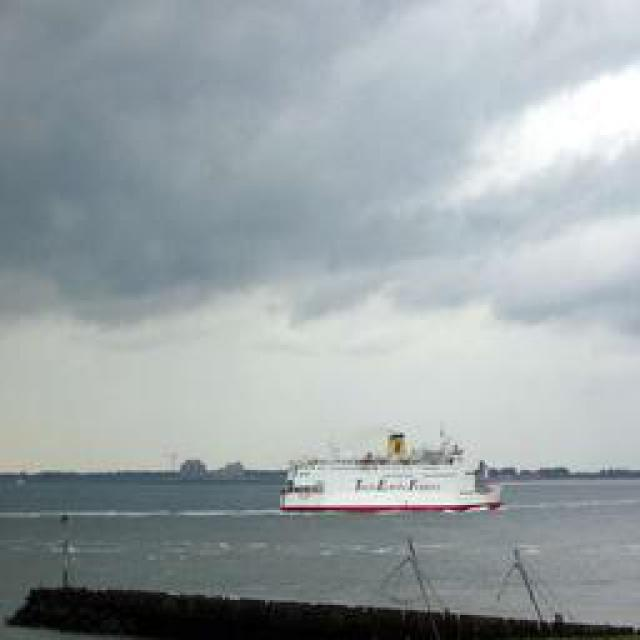Ship: (281, 441, 504, 519)
